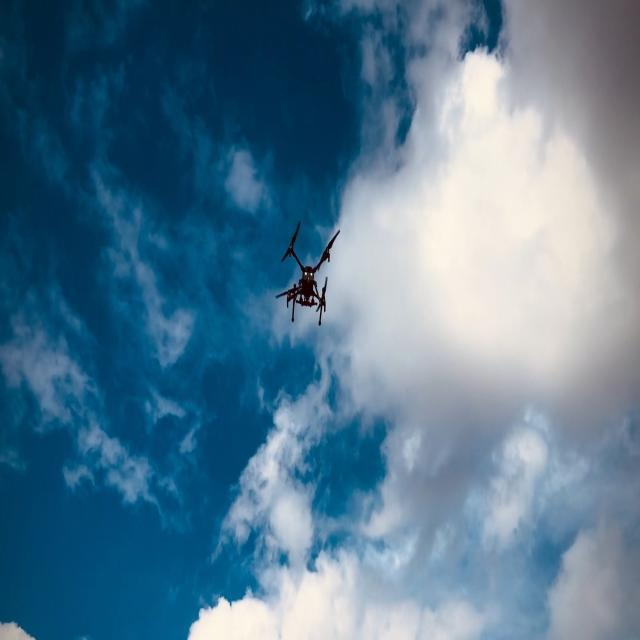drone: (274, 219, 340, 326)
